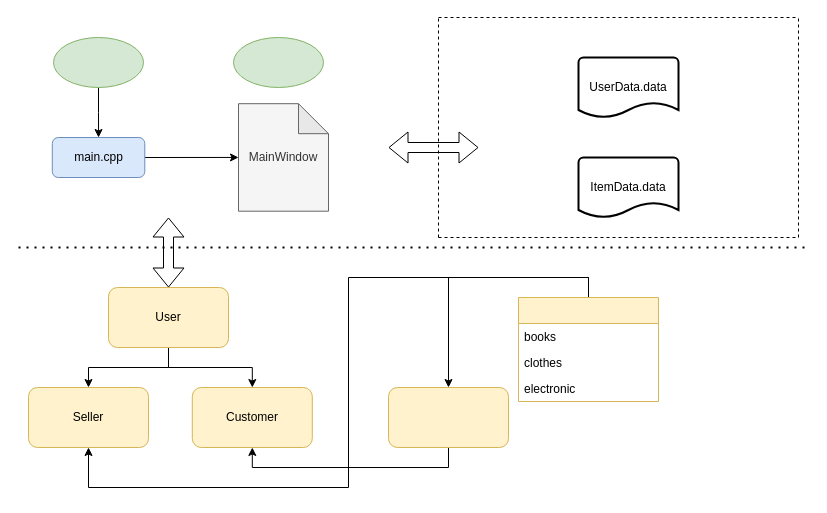
Some shapes in this 827 by 513 pixel diagram are drawn without their labels. Here are the shapes that lost their labels. From the top down, the box of each, then its label:
(52, 36, 144, 88): main.h
(232, 36, 324, 88): global.h
(518, 296, 658, 402): SalesItem
(388, 386, 508, 448): CartItem
